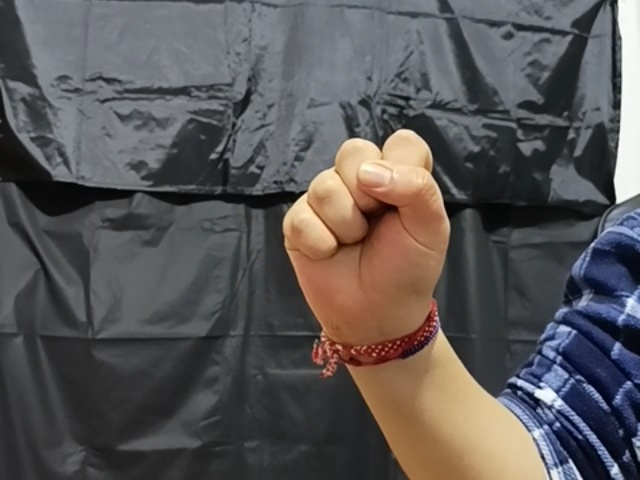S: (277, 128, 454, 315)
